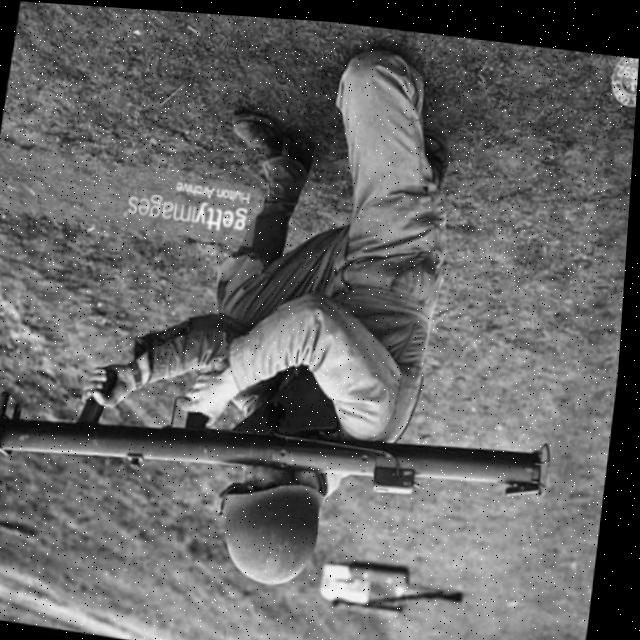rocket: (0, 363, 564, 538)
